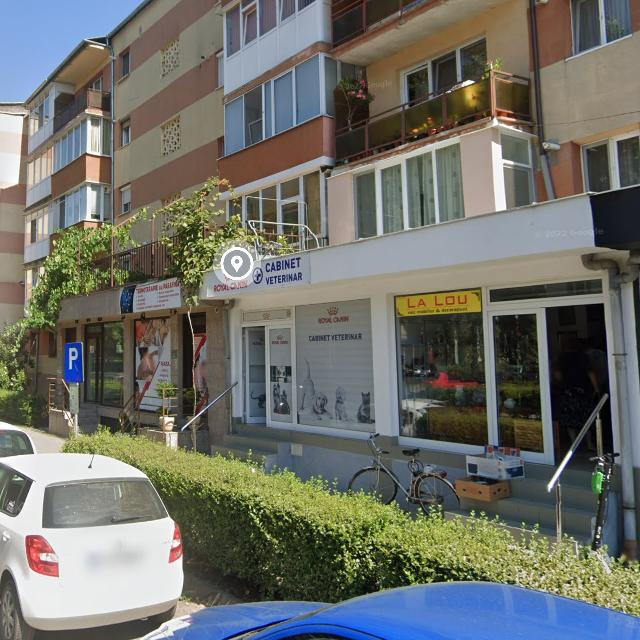info_parking: (63, 342, 84, 382)
